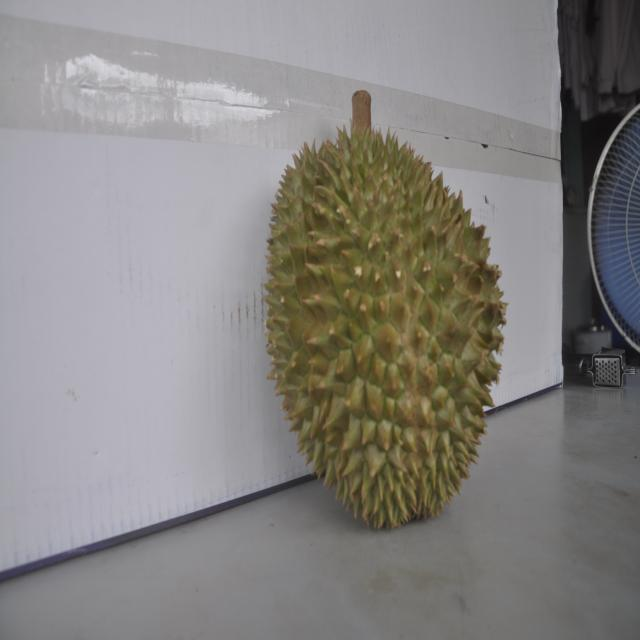mature: (262, 109, 499, 528)
